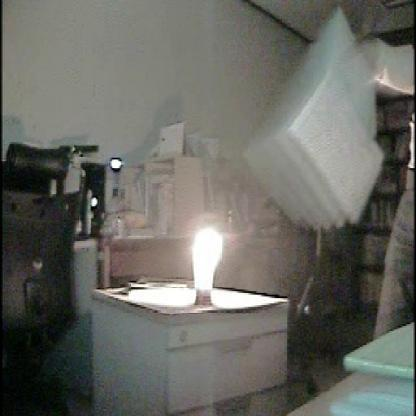fire: (163, 206, 247, 312)
